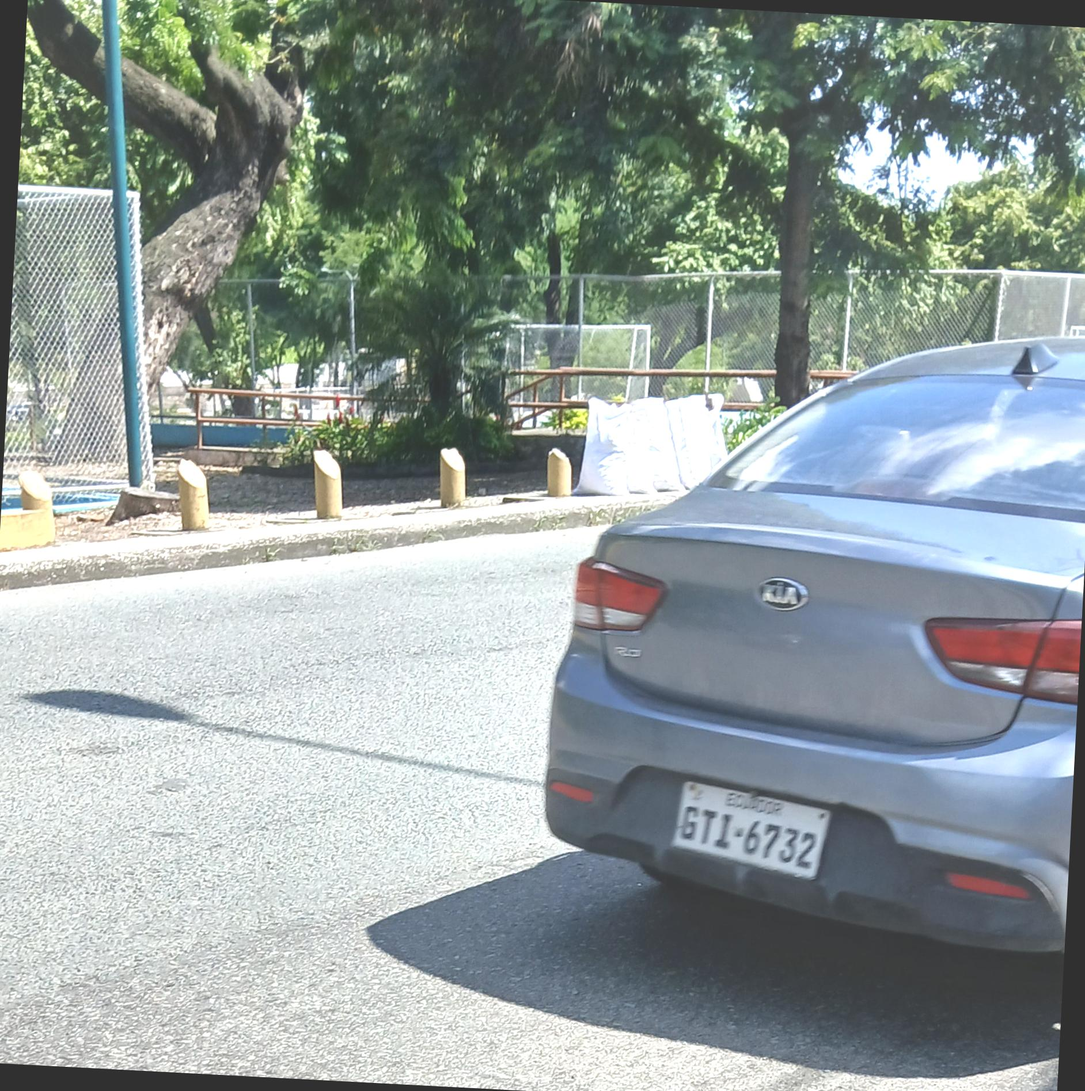license_plate: (672, 781, 834, 879)
